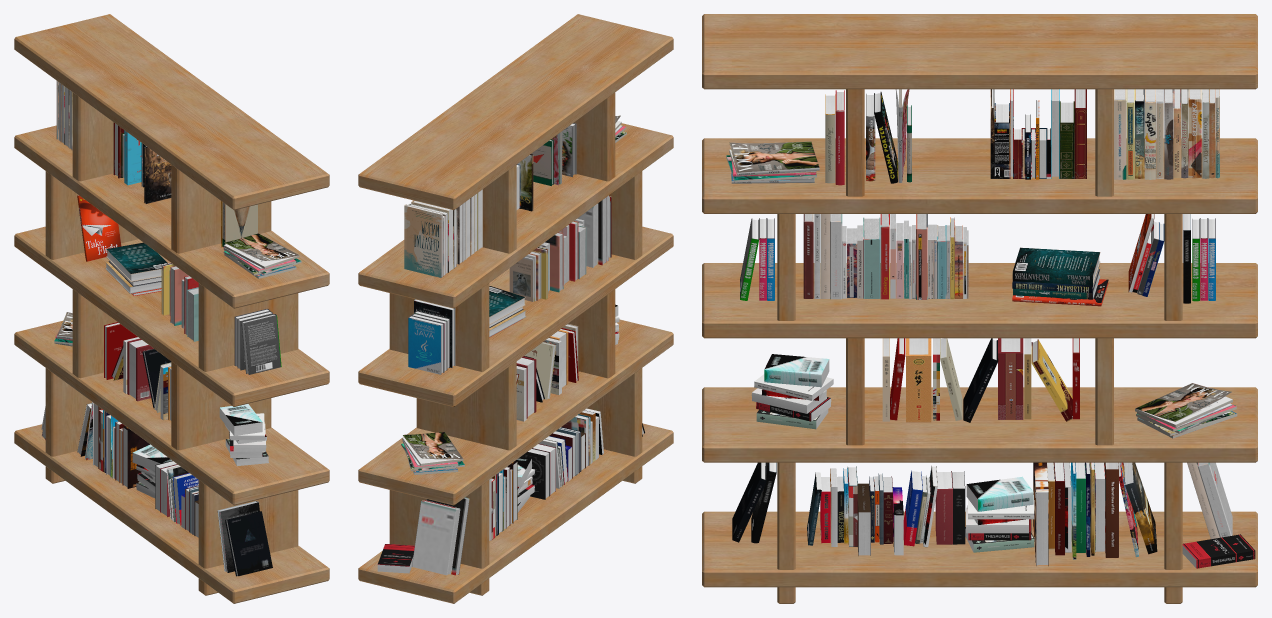
The model's file is Bookshelf.fbx.
3 renders of one model, left to right at view 1: azimuth 30°, elevation 25°; view 2: azimuth 150°, elevation 25°; view 3: azimuth 270°, elevation 25°, orthographic. The views are drawn at different scales.
Parts seen in each view (by area): view 1: Bookshelf, Books; view 2: Bookshelf, Books; view 3: Bookshelf, Books.
Boxes of the visible parts, bbox=[...] form: Bookshelf: bbox=[14, 14, 329, 603]; Books: bbox=[41, 81, 301, 576]; Bookshelf: bbox=[358, 14, 673, 603]; Books: bbox=[377, 115, 644, 575]; Bookshelf: bbox=[702, 14, 1257, 603]; Books: bbox=[726, 89, 1255, 568].
Bounding box in the file's own units: 56.36 × 234 × 221.
6 materials, 6 textured.
